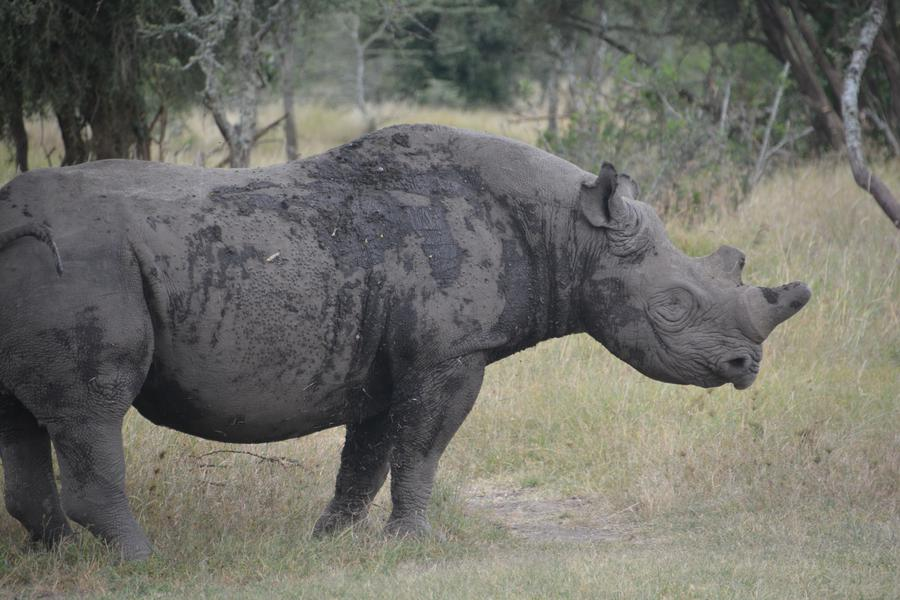rhino: (40, 121, 757, 497)
